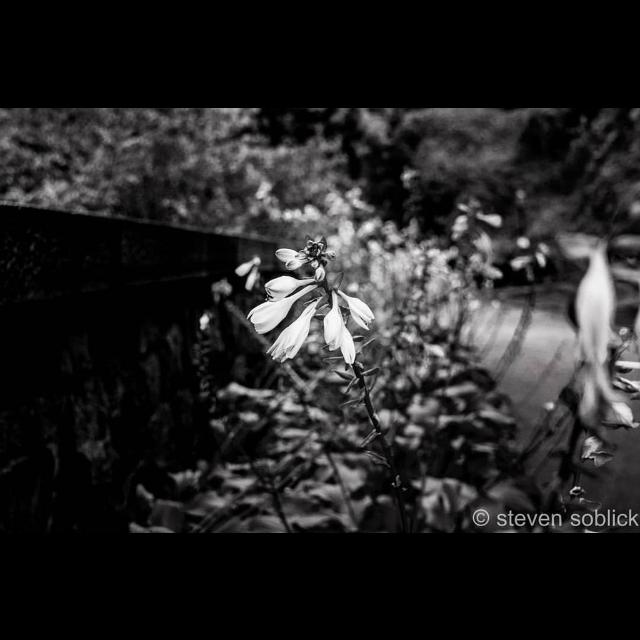Flower: (570, 240, 638, 442), (268, 296, 320, 366), (245, 286, 317, 336), (327, 288, 357, 366), (338, 288, 374, 332), (264, 278, 314, 300)
